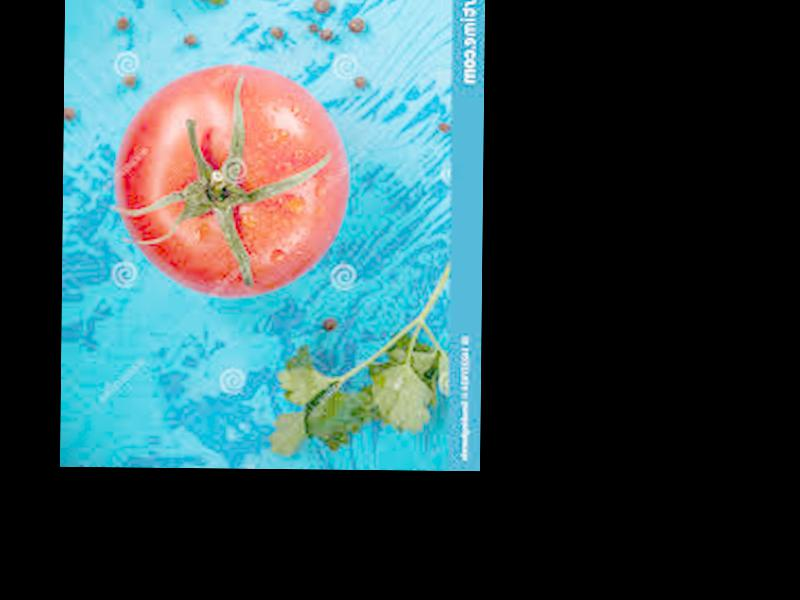Tomato: (115, 64, 349, 298)
